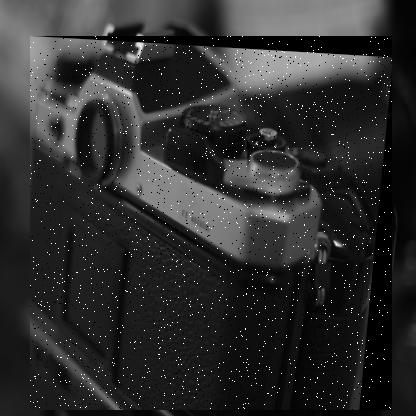Camera: (31, 37, 394, 412)
